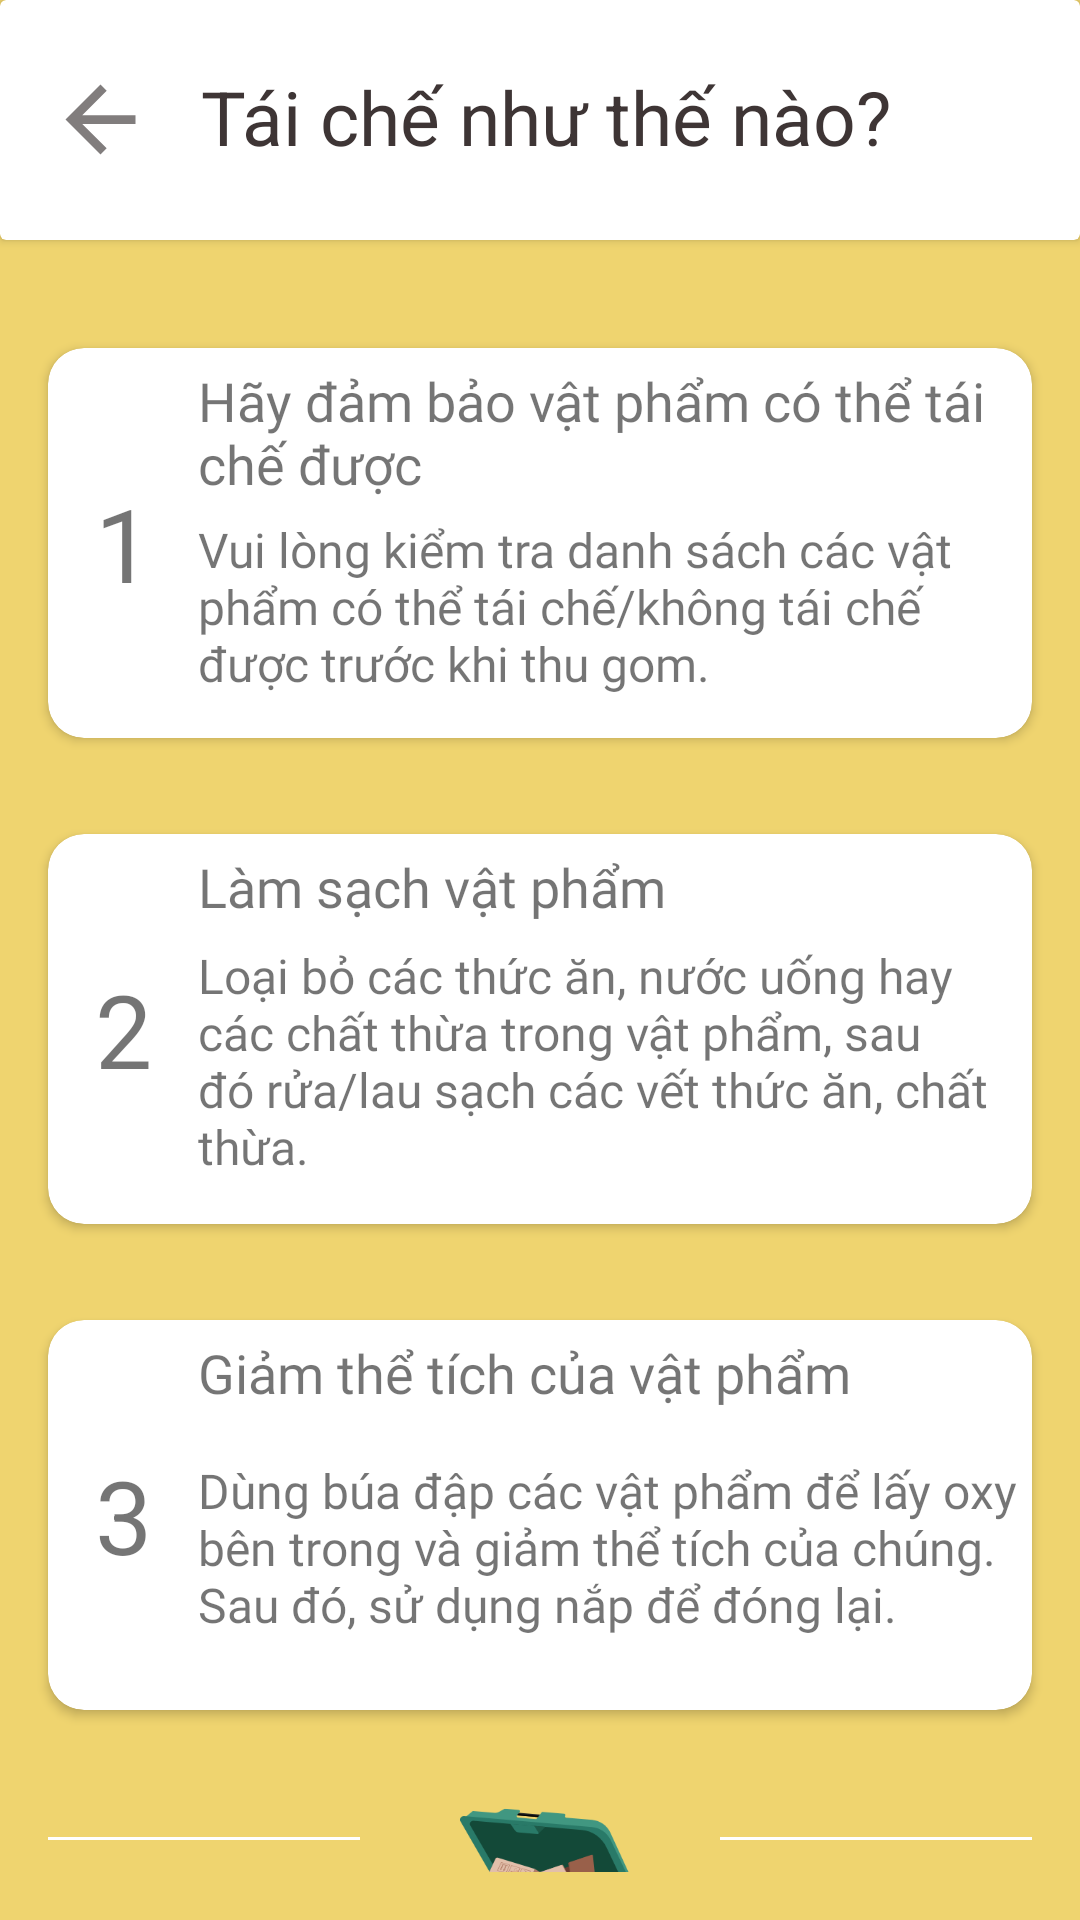

Point at icon controls on the screen. Image size 1080px x 1920px, points as (x,y).
arrow back: (100,119)
